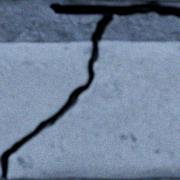broken_brick: (8, 41, 179, 177), (0, 42, 91, 154)
crack: (0, 0, 179, 179)
